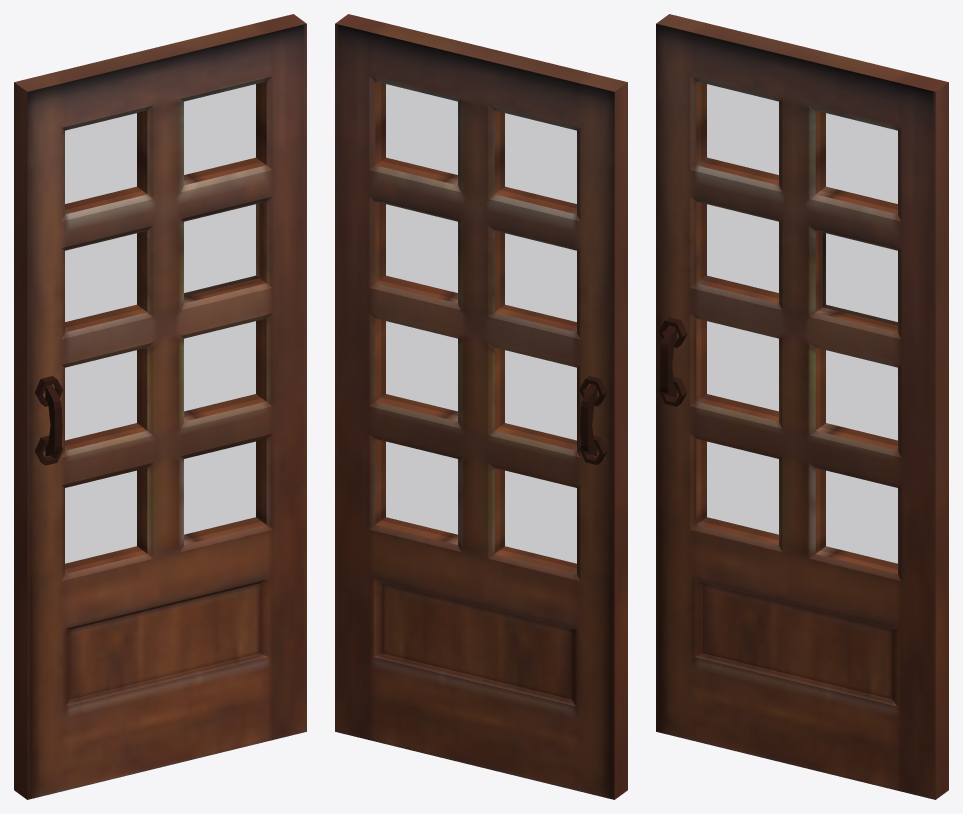
Rendered from door_001.glb.
3 views of the same model, side by side, from view 1: azimuth 30°, elevation 25°; view 2: azimuth 150°, elevation 25°; view 3: azimuth 330°, elevation 25° (orthographic).
Visible parts, largest first — view 1: Front Door_001; view 2: Front Door_001; view 3: Front Door_001.
Boxes of the visible parts, x1,y1,x2,y2 form: Front Door_001: (14, 14, 306, 799); Front Door_001: (335, 14, 627, 799); Front Door_001: (656, 14, 948, 799).
Size of the model in its own units: 0.831 by 2.01 by 0.1851.
Materials: 2 (1 with a texture image).
